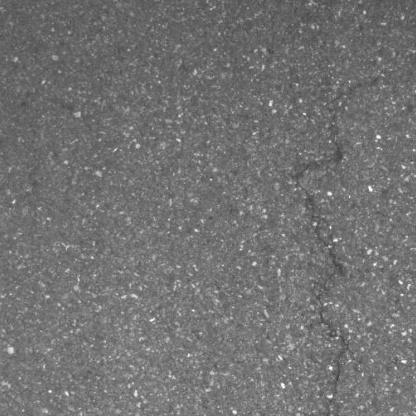Cracks: (292, 160, 355, 397), (317, 90, 349, 171)
